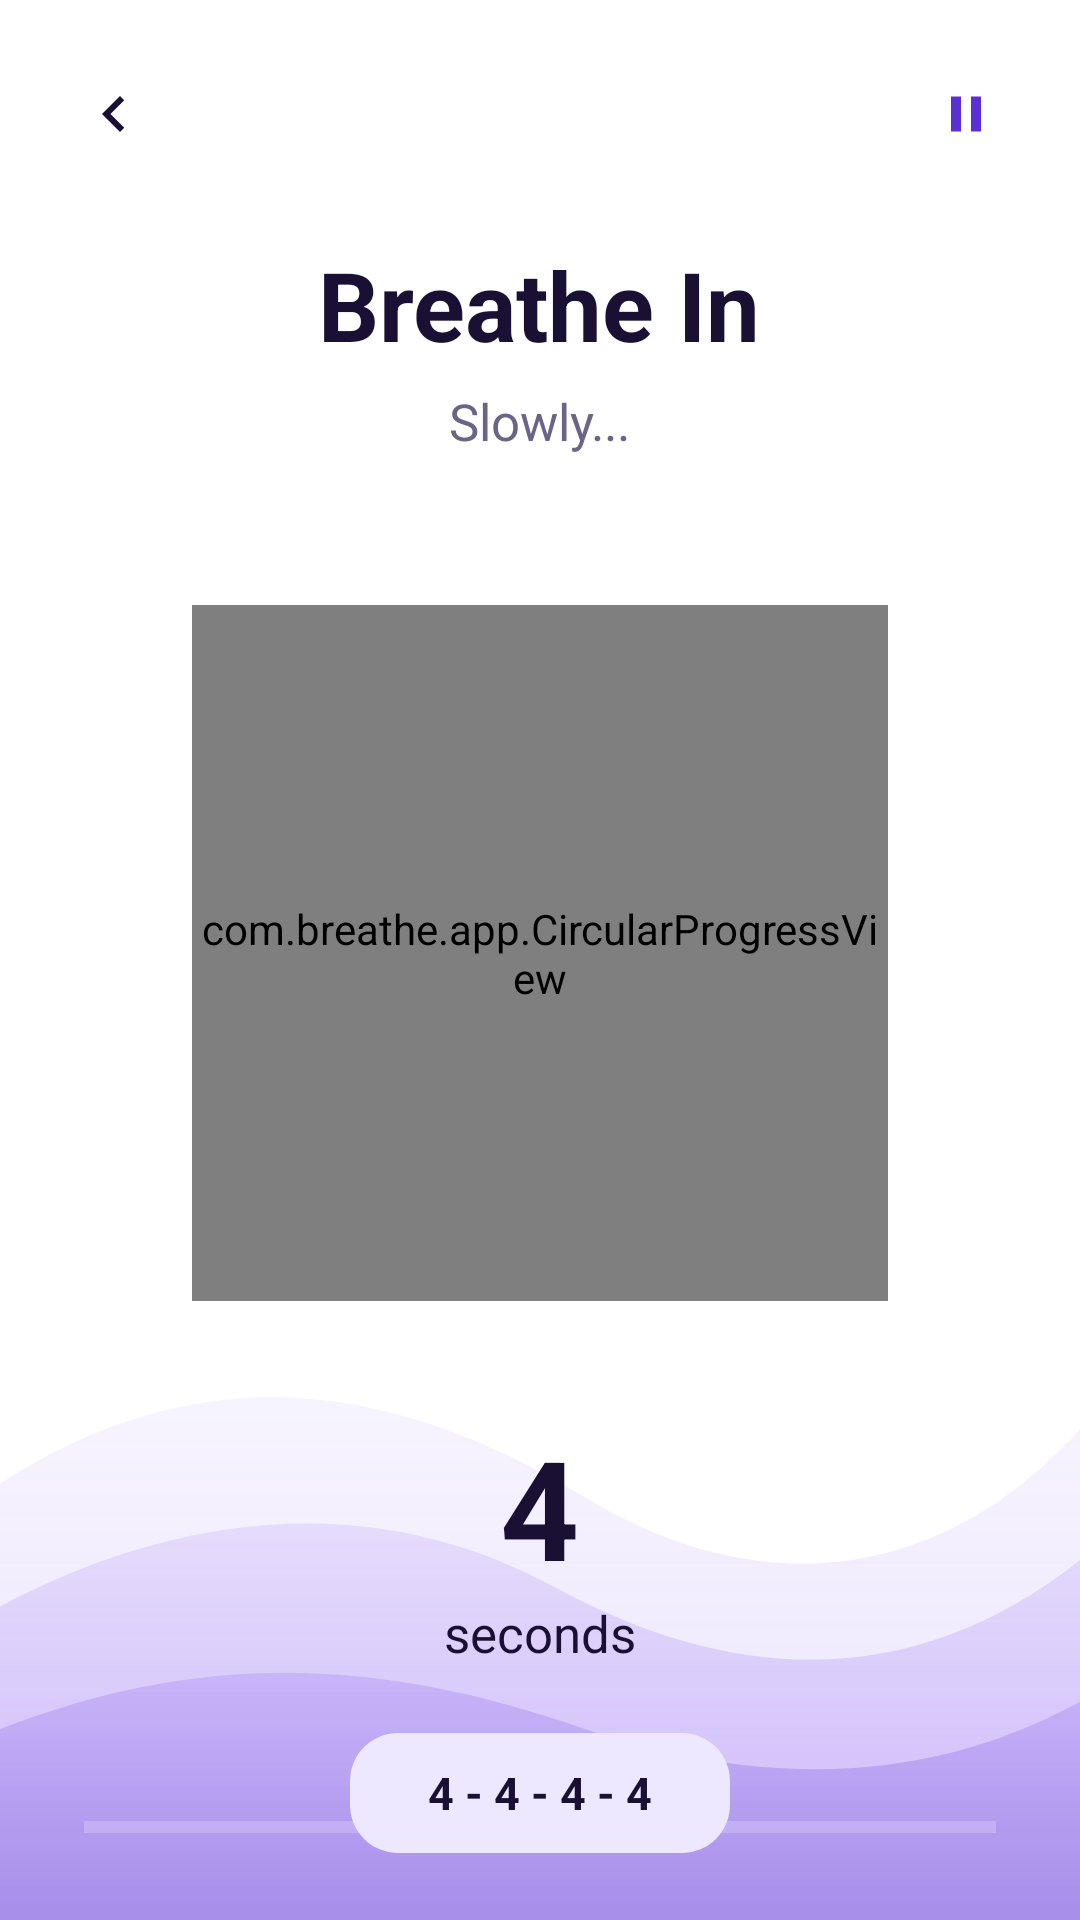

Icons on this 1080 x 1920 Android screen, each with the point to tap as (x=x, y=y):
back: (x=113, y=114)
pause: (x=966, y=114)
